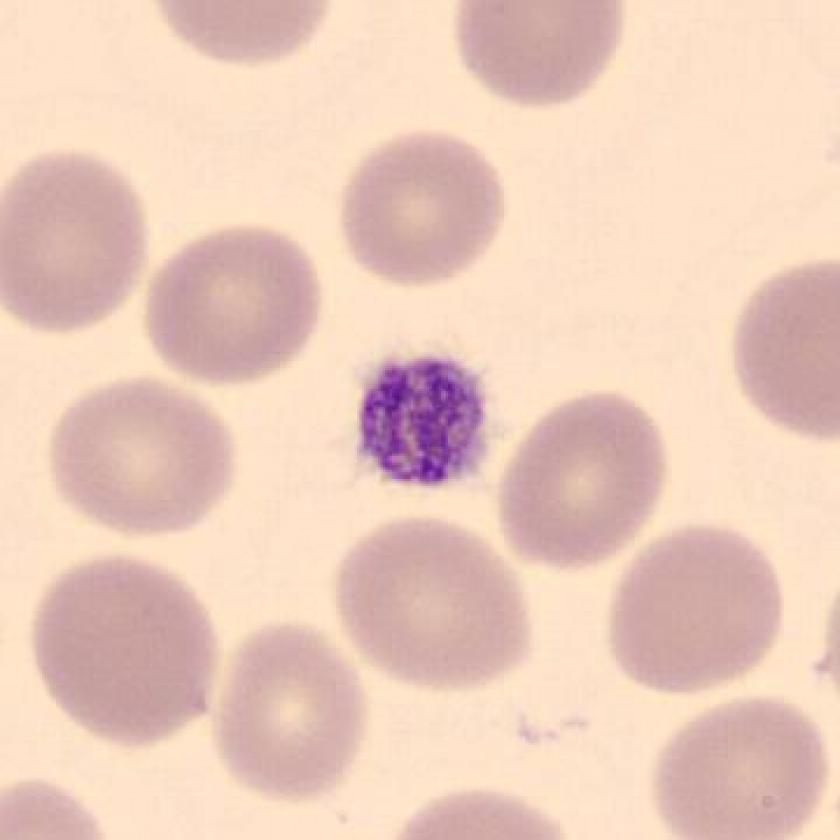platelets: (353, 346, 498, 498)
